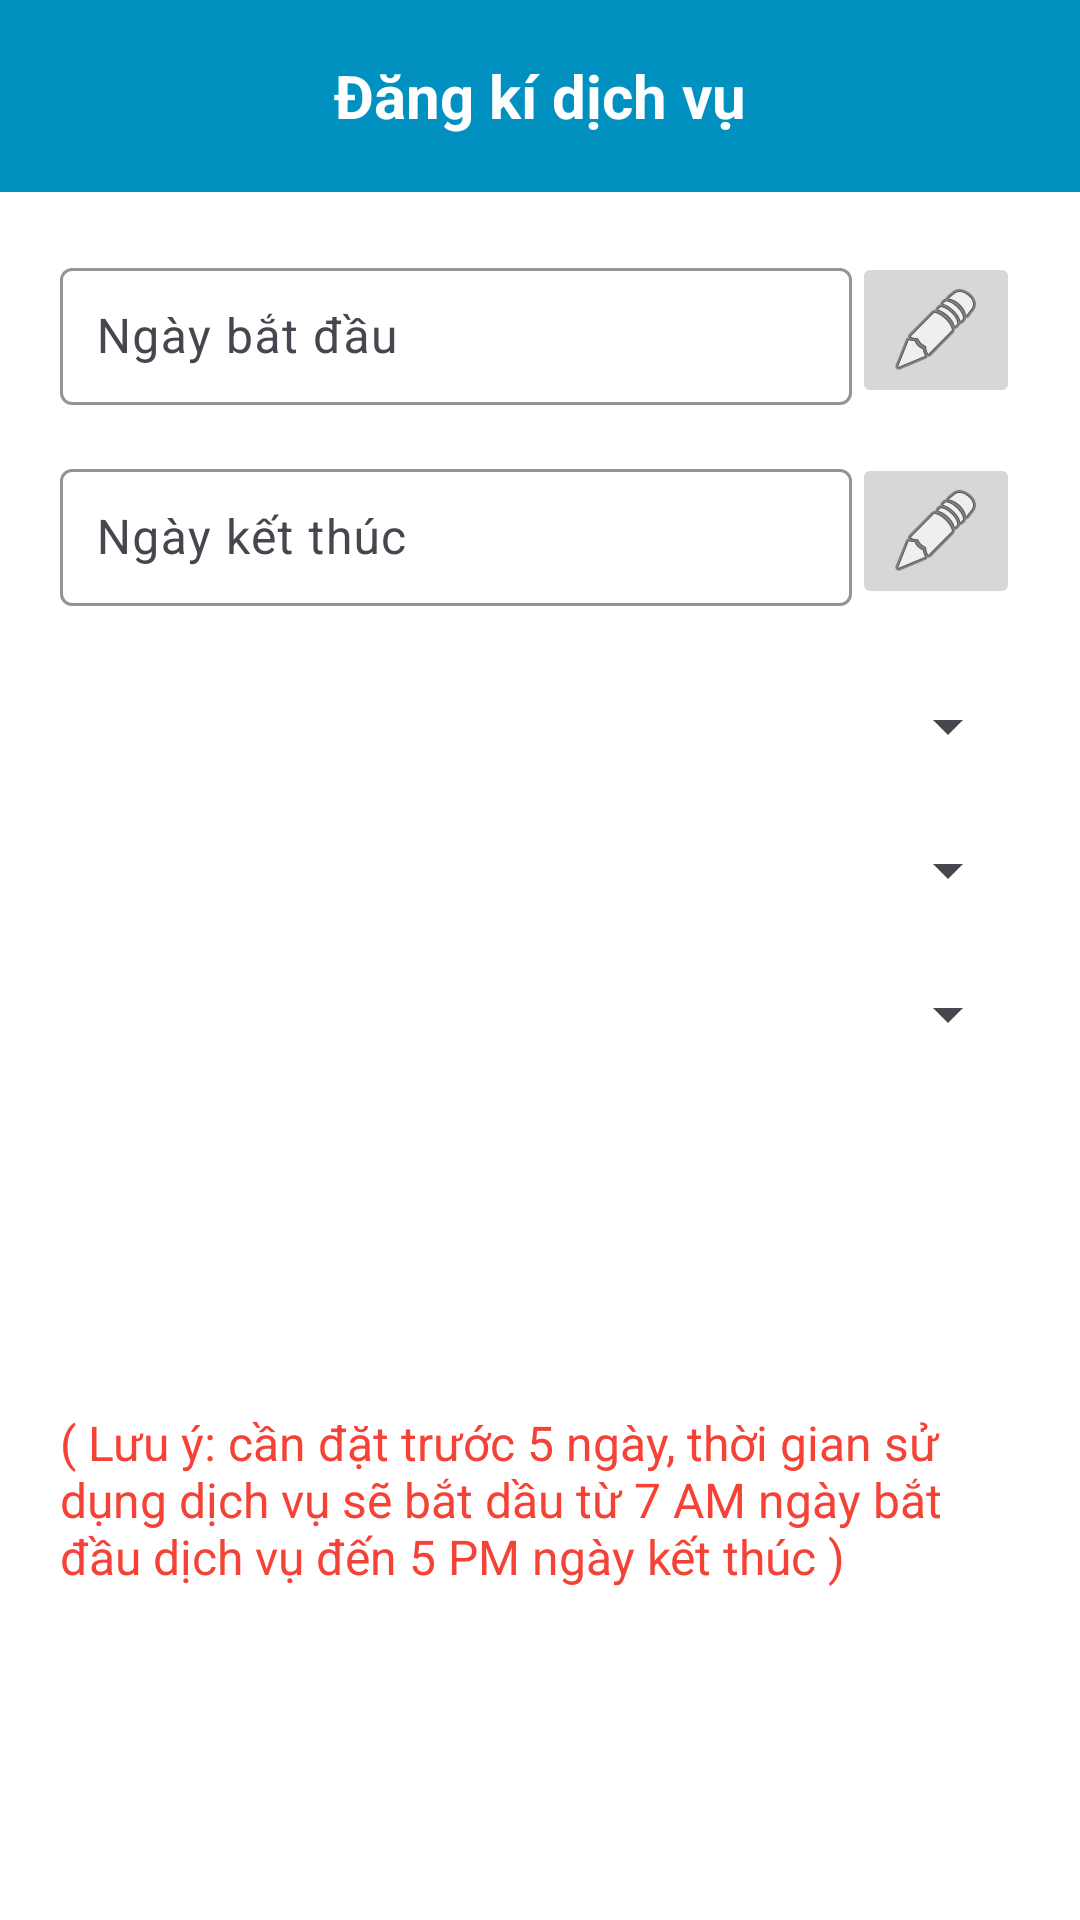

Screen size 1080w x 1920h. Icon name, then its box in pixels as (x1, y1, x2, y2):
edit: (864, 270, 1008, 390), (864, 471, 1008, 591)
